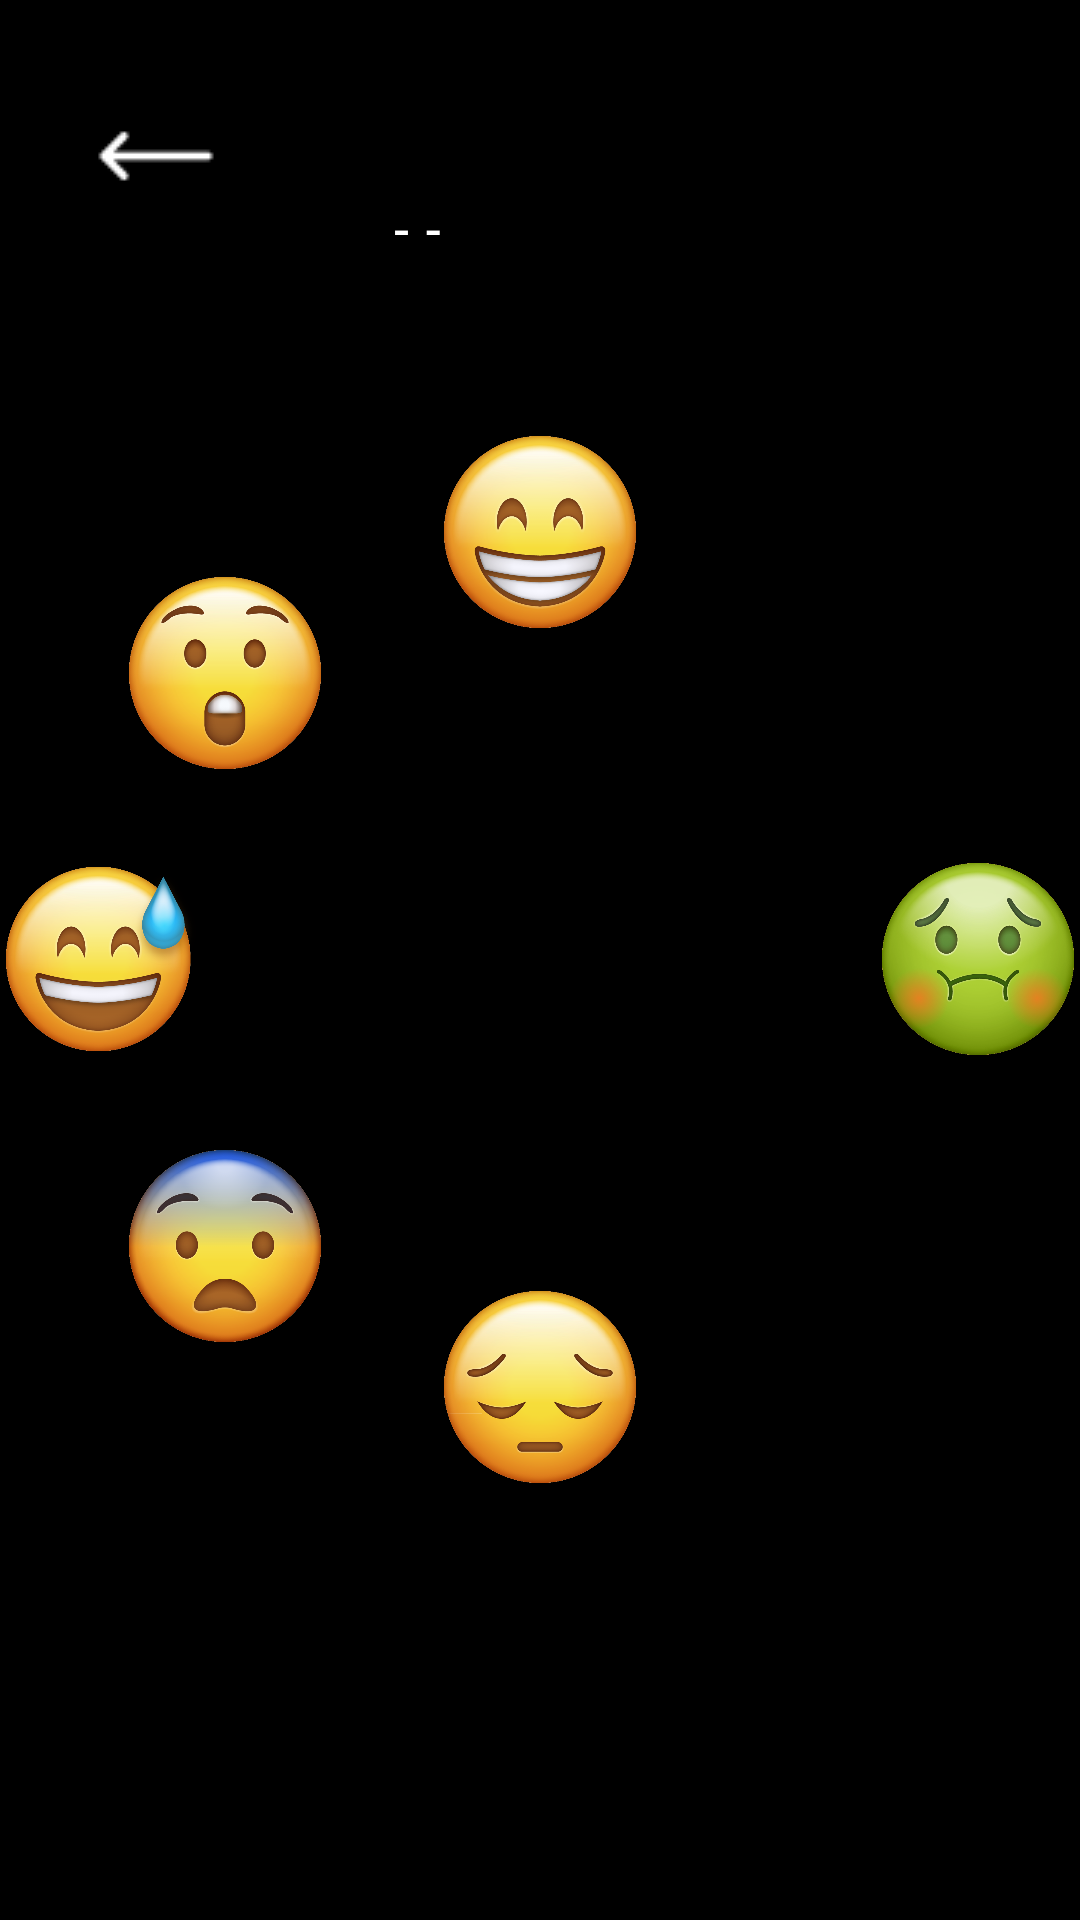

Icons on this 1080w x 1920h Android screen, each with its box as (x1, y1, x2, y2):
back: (98, 131, 214, 181)
Disgust: (882, 863, 1074, 1055)
Fear: (129, 1150, 321, 1342)
Happy: (444, 436, 636, 628)
Sad: (444, 1291, 636, 1483)
Surprise: (129, 577, 321, 769)
